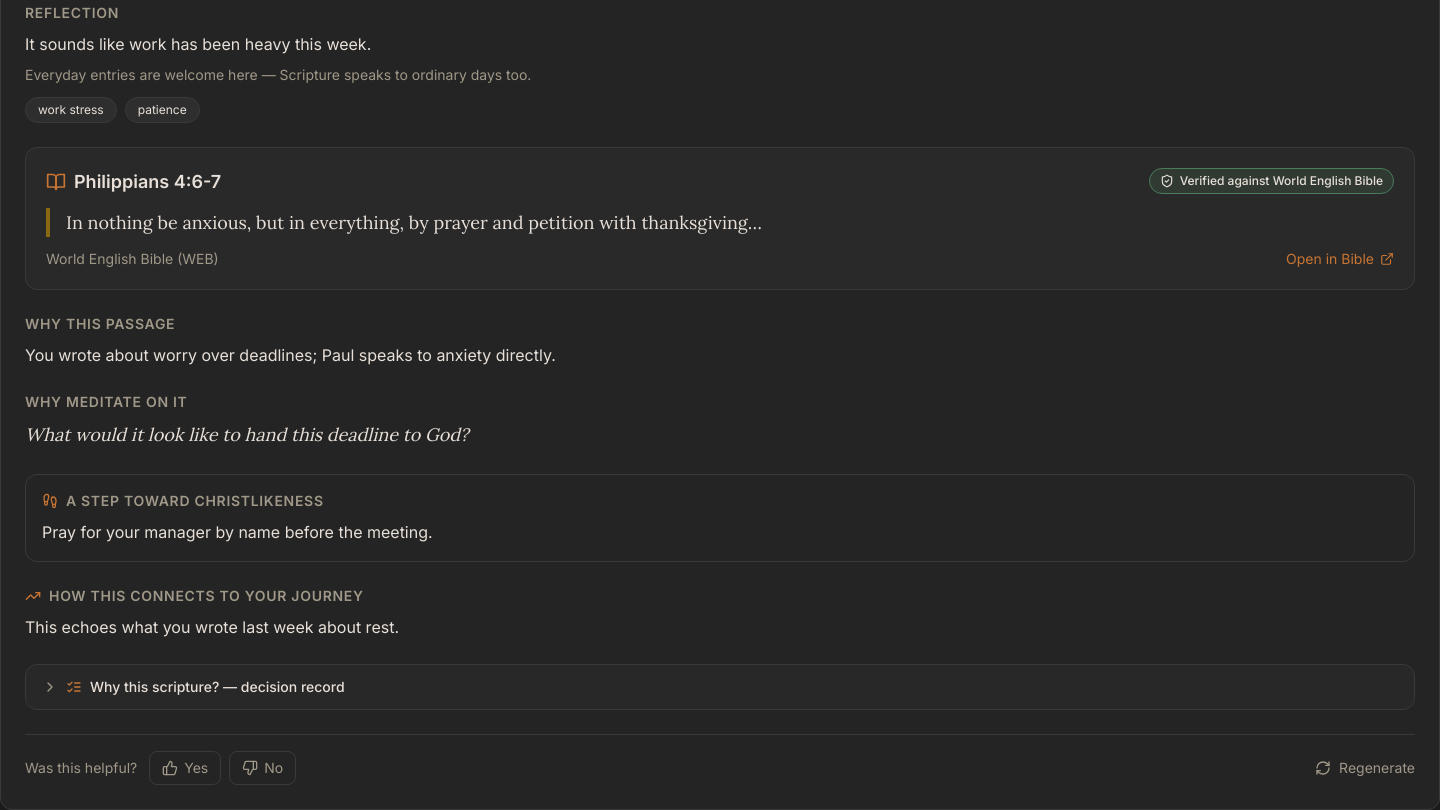
Test: JournalFeedbackPanel › asks before replacing feedback on Regenerate
(page scrolled)
What coordinates should you click on to do the following:
click the button "Regenerate"
I would click on:
 (1365, 768)
Its box is [1315, 758, 1415, 778].
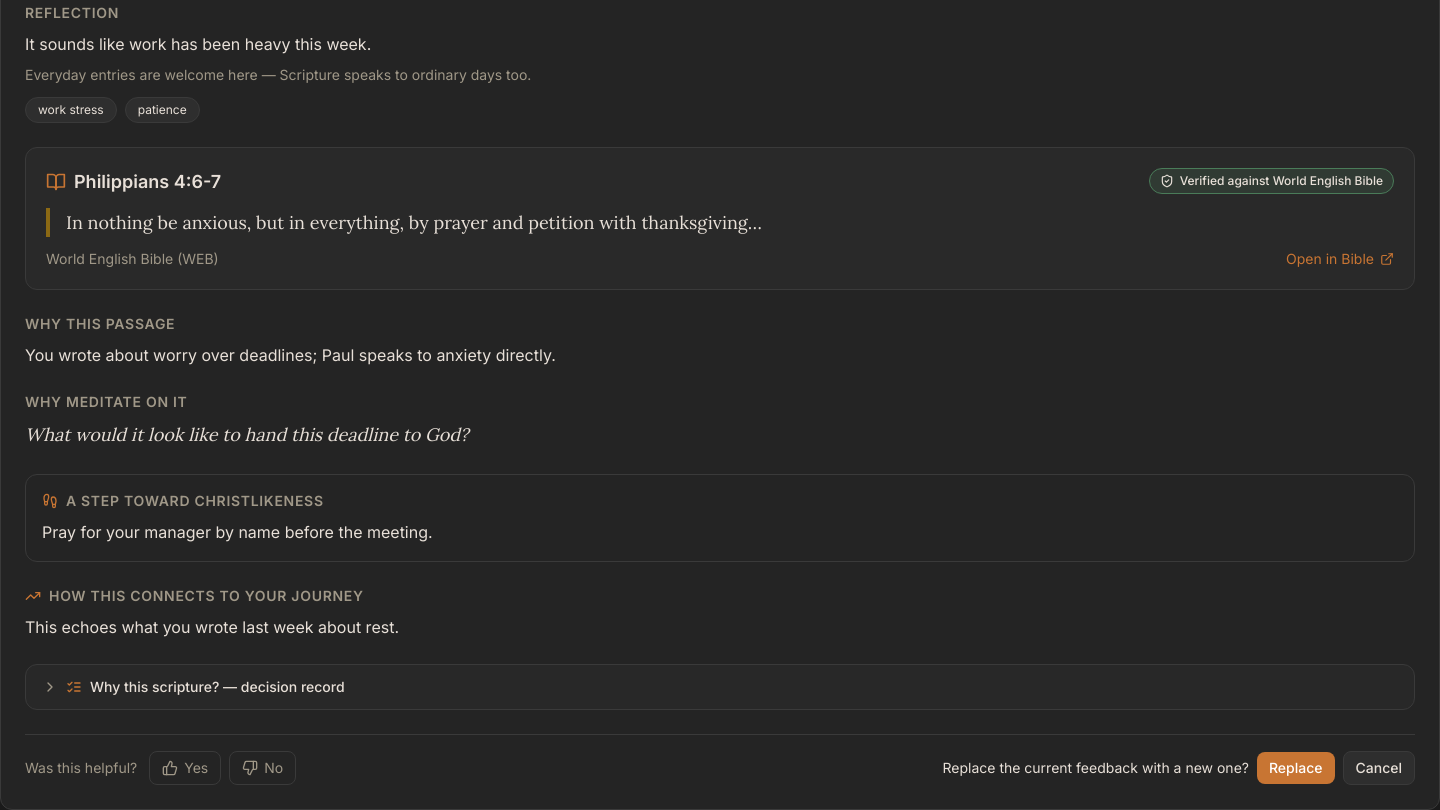
Check: the text "Replace the current feedback with a new one?" is shown, box [942, 758, 1249, 778]
What coordinates should you click on to do the following:
click the button "Replace"
I would click on:
 (1296, 768)
Its box is [1257, 752, 1334, 784].
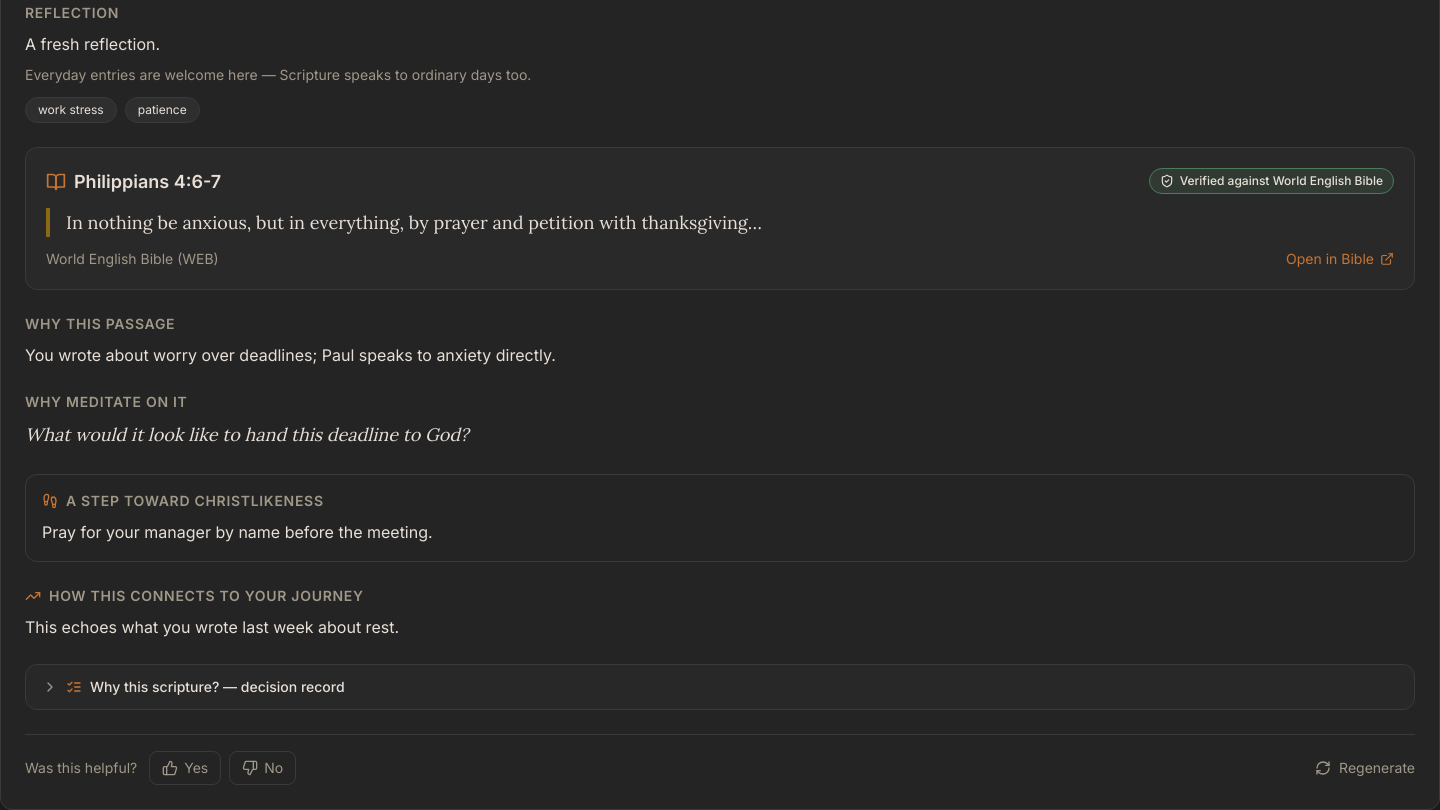
Check: the text "A fresh reflection." is shown, box [25, 34, 160, 54]
